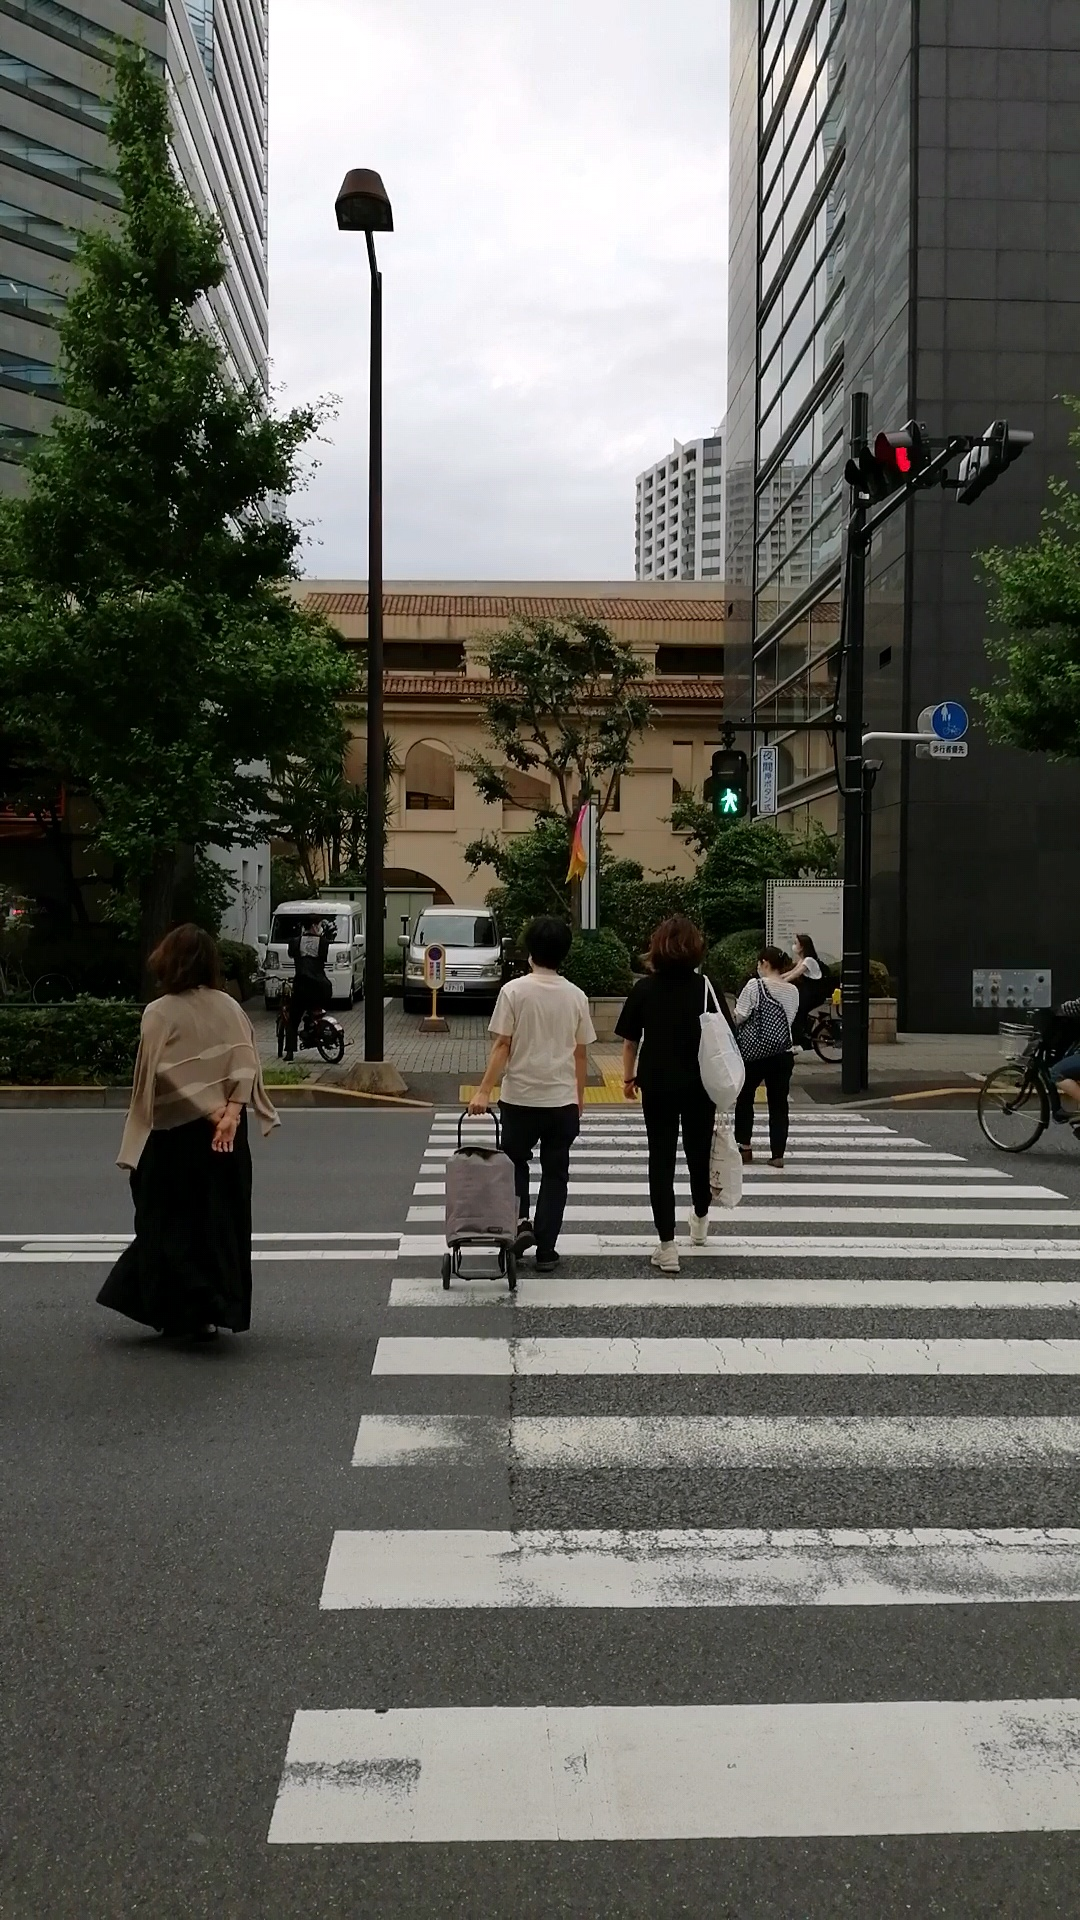green: (712, 750, 746, 819)
